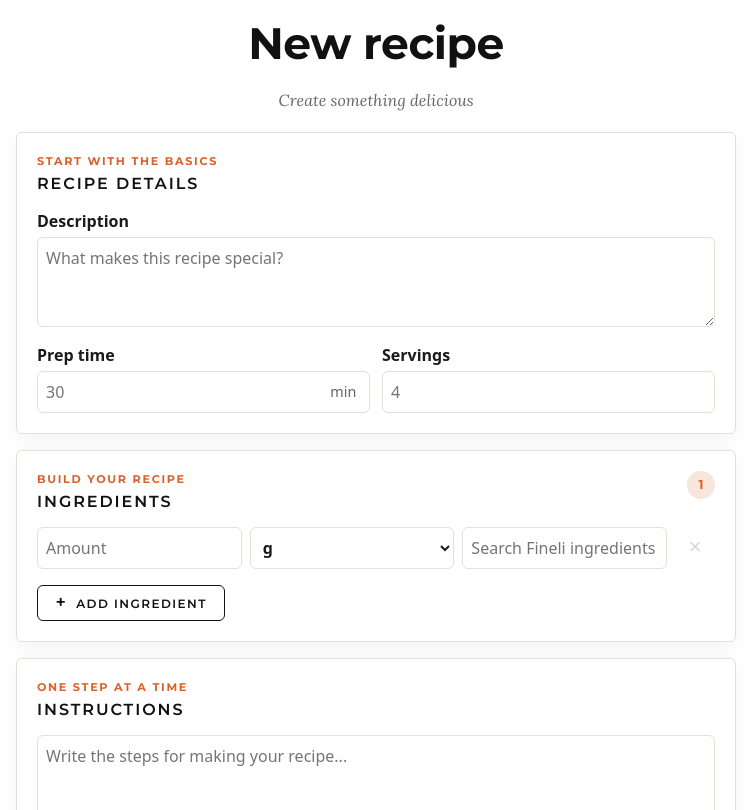
RecipeFormPage › selects a Fineli suggestion with ArrowDown and Enter without submitting
The image size is (753, 810).
Later steps or results of the test are not shown.
Type "sugar" into the dropdown named "Ingredient 1". click: (565,548)
box: 462,527 -> 667,569
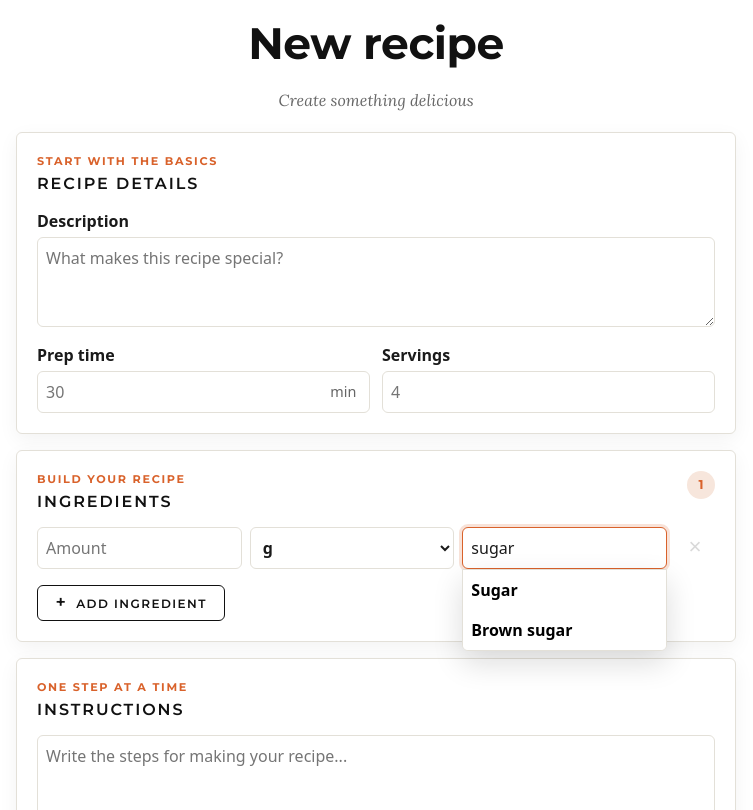
Expected: the option "Brown sugar" is shown, 463,610 -> 666,650
Press Arrowdown Arrowdown Enter
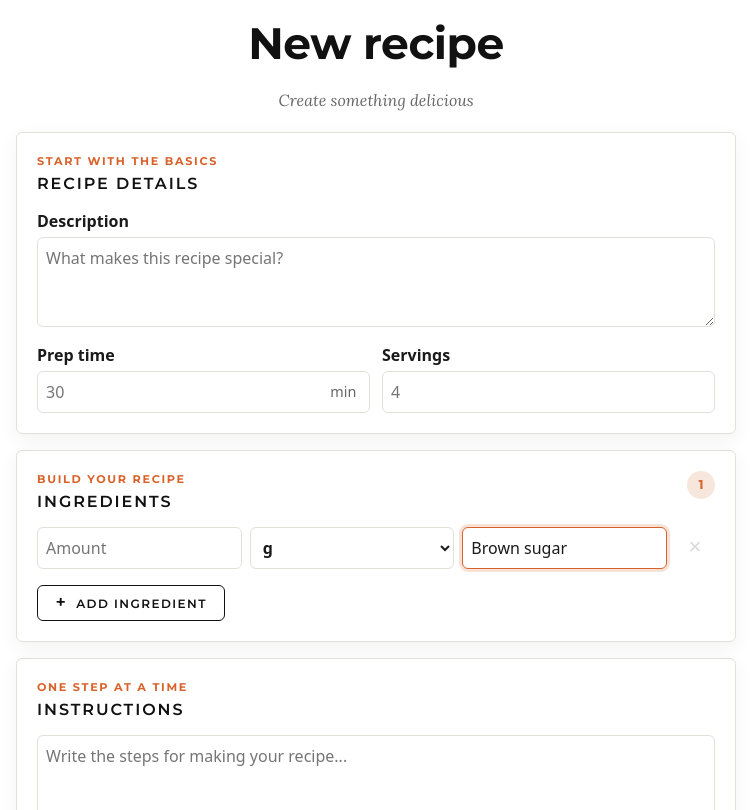
Press Enter in the dropdown named "Ingredient 1", box 462,527 -> 667,569
(page scrolled)
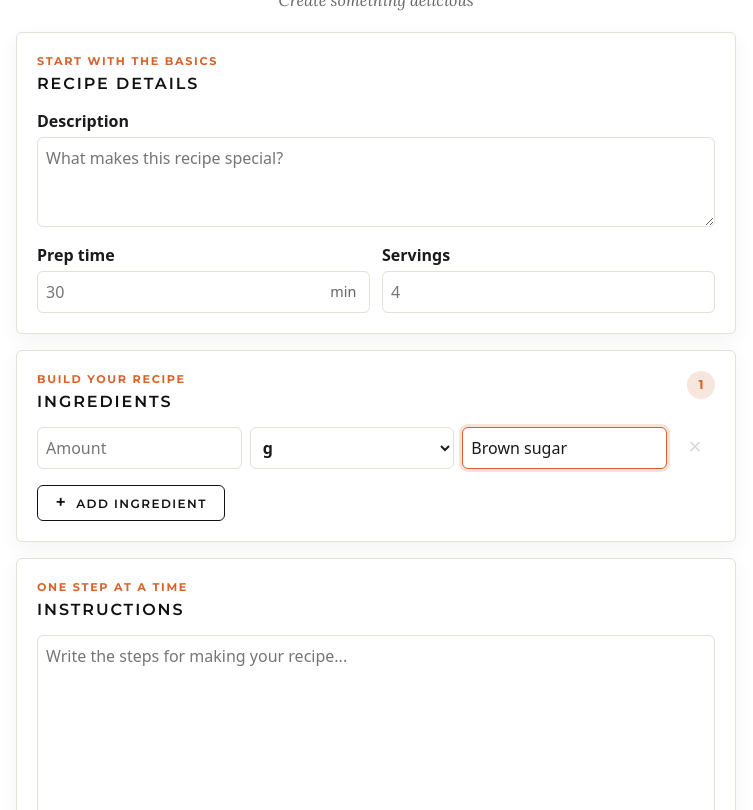
Submit the form named "Ingredient 1"
(page scrolled)
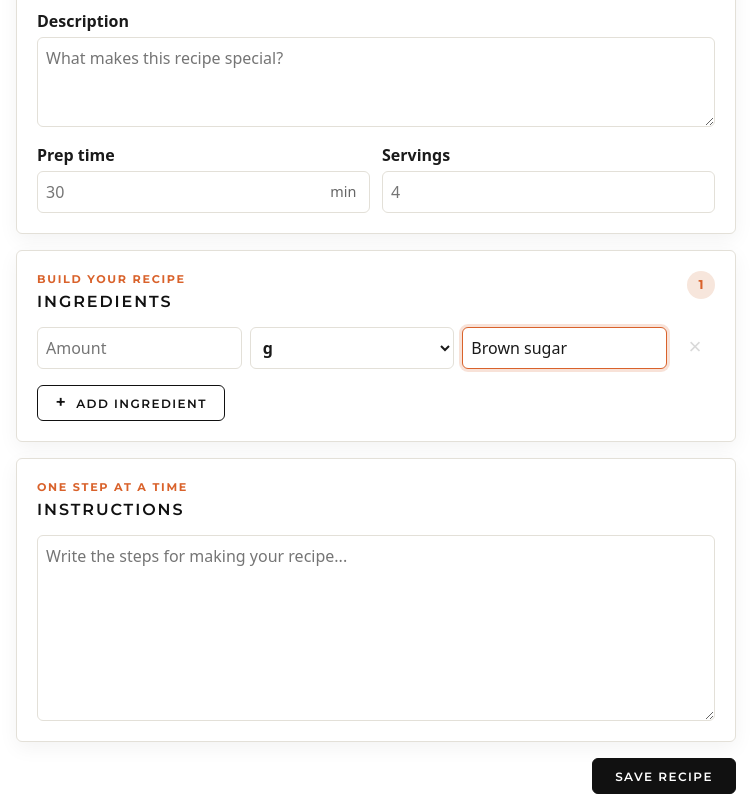
Expected: the text "Recipe detail" is not shown
Expected: the dropdown named "Ingredient 1" holds "Brown sugar", 462,327 -> 667,369
